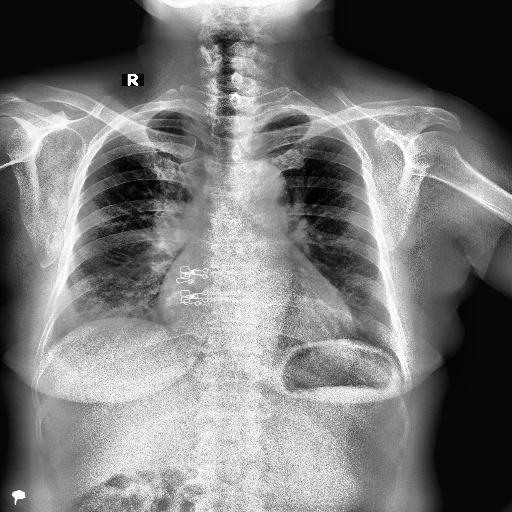0- Aortic enlargement: (231, 158, 291, 219), (232, 162, 290, 214), (246, 160, 288, 208)
3- Cardiomegaly: (156, 270, 362, 350), (160, 279, 354, 338)
